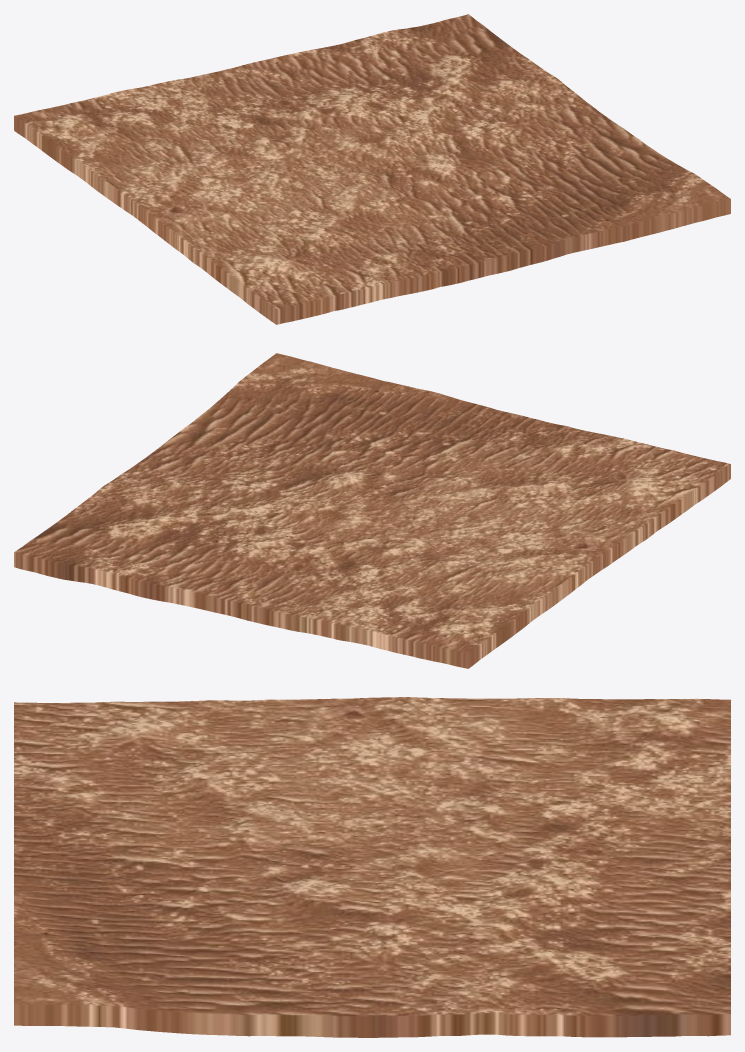
3 renders of one model, top to bottom at view 1: azimuth 30°, elevation 25°; view 2: azimuth 150°, elevation 25°; view 3: azimuth 270°, elevation 25°, orthographic. The views are drawn at different scales.
Parts seen in each view (by area): view 1: L5_17_12; view 2: L5_17_12; view 3: L5_17_12.
Part boxes in pixels (x1,y1,x2,y2): L5_17_12: [14, 14, 730, 324]; L5_17_12: [14, 353, 730, 668]; L5_17_12: [14, 697, 730, 1037].
Bounding box in the file's own units: 450 × 26.67 × 450.
1 material, 1 textured.
